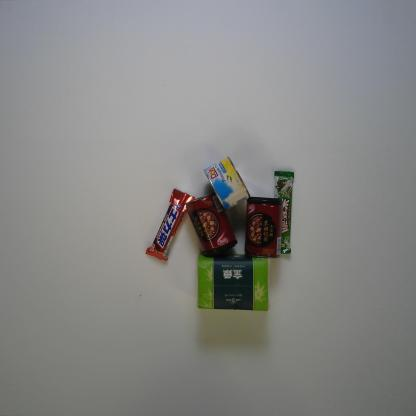Canned Food: (185, 192, 239, 257), (203, 155, 251, 210), (244, 195, 283, 258)
Chocolate: (144, 188, 197, 262), (272, 169, 296, 256)
Tissue: (194, 252, 271, 315)
